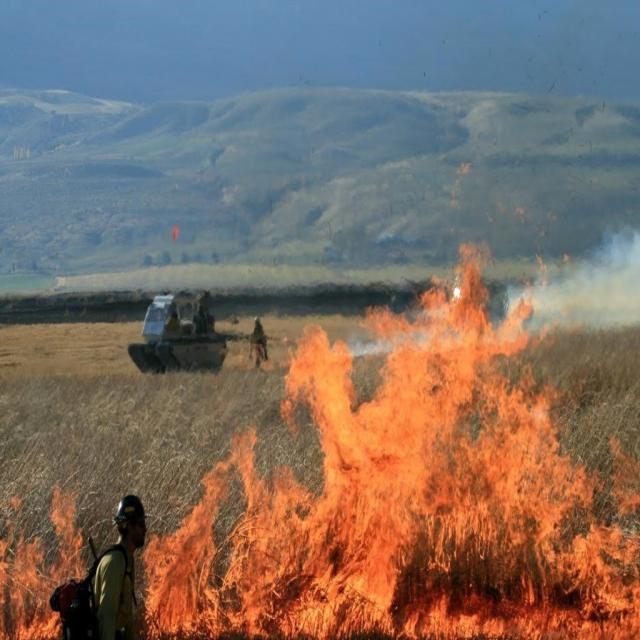tank: (129, 286, 247, 380)
